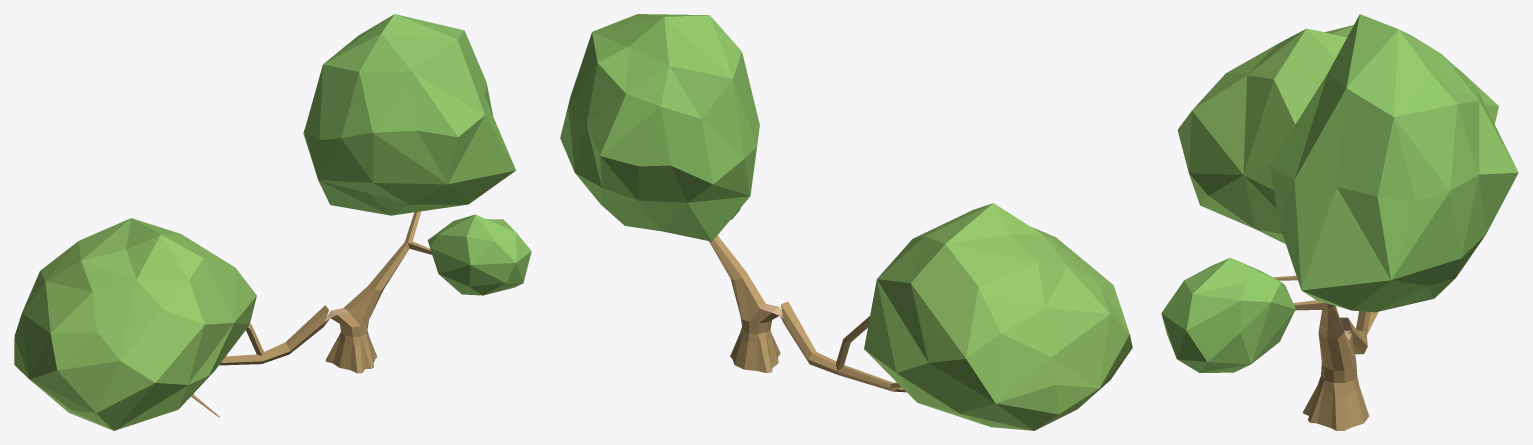
Rendered from Oak_Tree_crk_l_02.fbx.
The picture shows the model from 3 angles, left to right: view 1: azimuth 30°, elevation 25°; view 2: azimuth 150°, elevation 25°; view 3: azimuth 270°, elevation 25°; orthographic projection. The views are drawn at different scales.
Parts seen in each view (by area): view 1: Oak_Tree_crk_l_02; view 2: Oak_Tree_crk_l_02; view 3: Oak_Tree_crk_l_02.
Boxes of the visible parts, x1,y1,x2,y2 form: Oak_Tree_crk_l_02: [14, 14, 531, 430]; Oak_Tree_crk_l_02: [560, 14, 1132, 430]; Oak_Tree_crk_l_02: [1161, 14, 1518, 430].
Bounding box in the file's own units: 1714 × 1078 × 815.
